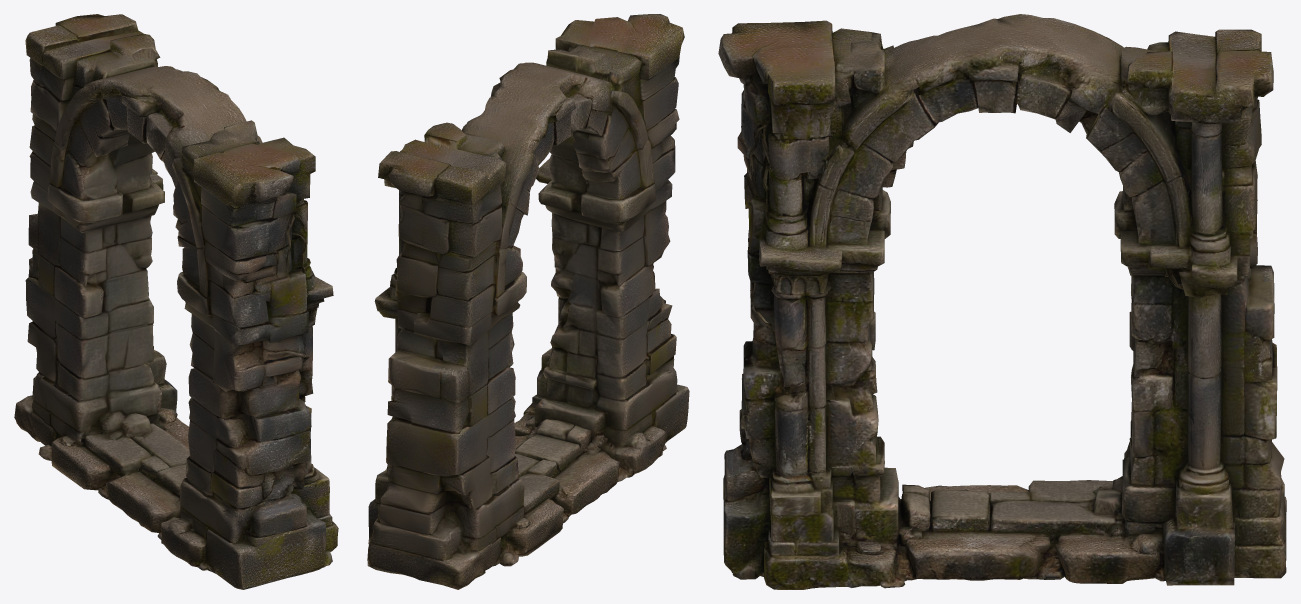
Rendered from ruined-stone-archway.glb.
The picture shows the model from 3 angles, left to right: view 1: azimuth 30°, elevation 25°; view 2: azimuth 150°, elevation 25°; view 3: azimuth 270°, elevation 25°; orthographic projection. The views are drawn at different scales.
Parts seen in each view (by area): view 1: tripo_node_867a6c5e-25b1-462e-95b1-aaca0df33ad1; view 2: tripo_node_867a6c5e-25b1-462e-95b1-aaca0df33ad1; view 3: tripo_node_867a6c5e-25b1-462e-95b1-aaca0df33ad1.
Part boxes in pixels (<box>): tripo_node_867a6c5e-25b1-462e-95b1-aaca0df33ad1: <box>14,14,338,589</box>; tripo_node_867a6c5e-25b1-462e-95b1-aaca0df33ad1: <box>367,14,689,589</box>; tripo_node_867a6c5e-25b1-462e-95b1-aaca0df33ad1: <box>718,14,1286,589</box>.
Bounding box in the file's own units: 0.3322 × 1 × 0.9996.
Materials: 1 (1 with a texture image).
